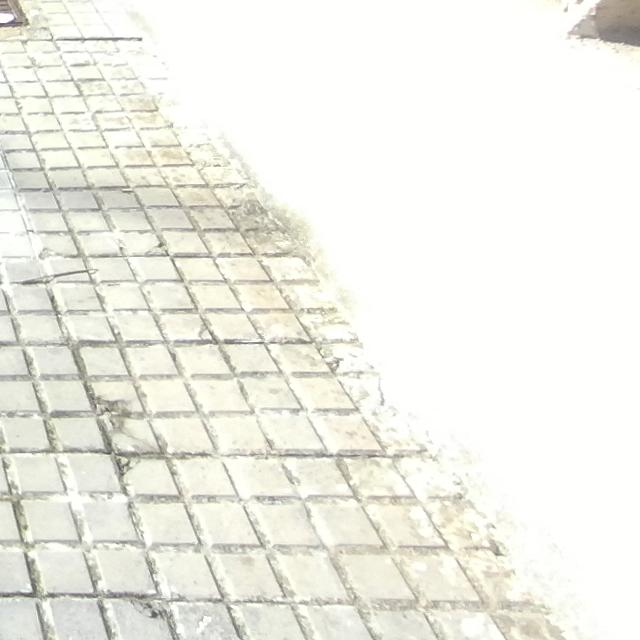calcada_quebrada: (84, 380, 171, 483), (125, 584, 185, 640)
